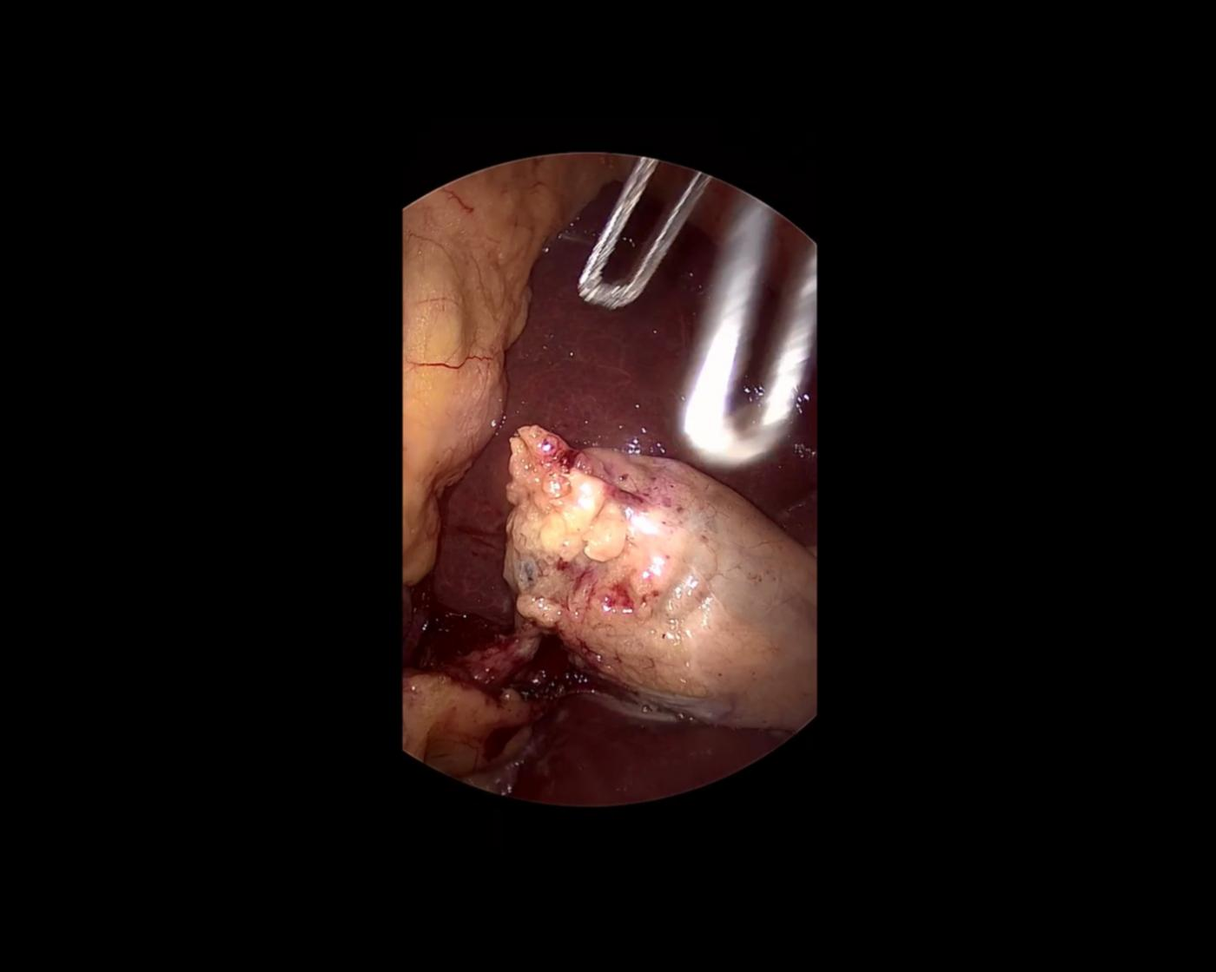Forceps: (637, 190, 861, 487), (556, 141, 712, 326)
Gallbladder: (460, 425, 861, 741)
Liver: (287, 142, 869, 678), (512, 687, 788, 848)
